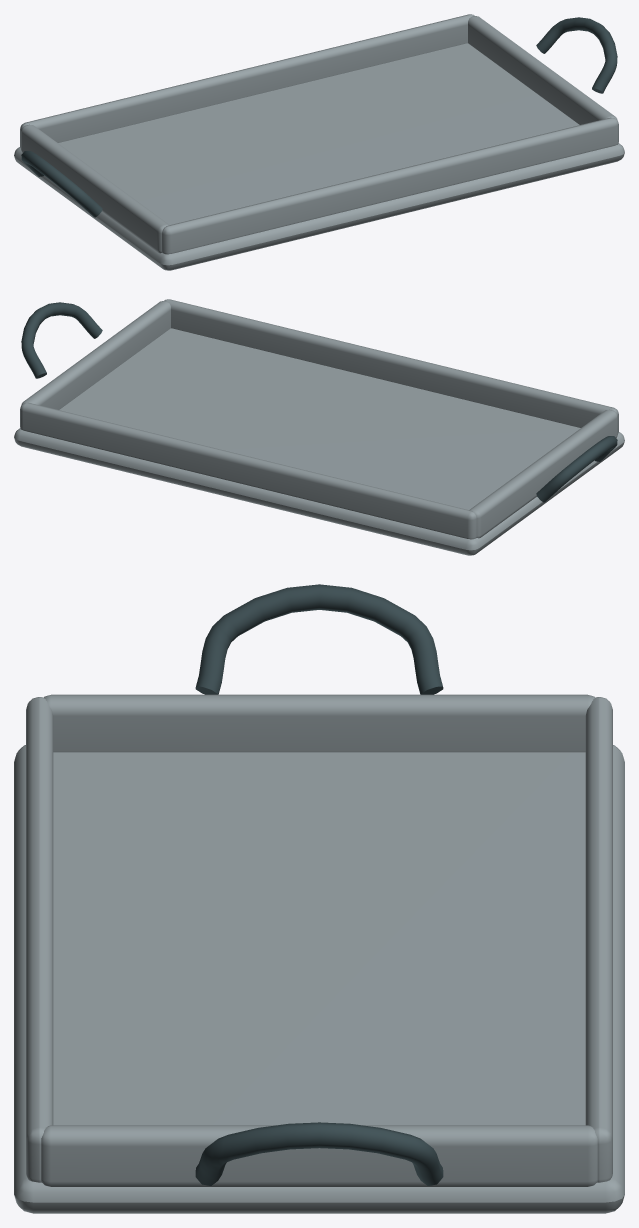
File: HotelTogether-ServingTray.glb
3 views of the same model, one above another, from view 1: azimuth 30°, elevation 25°; view 2: azimuth 150°, elevation 25°; view 3: azimuth 270°, elevation 25° (orthographic). The views are drawn at different scales.
Visible parts, largest first — view 1: Tray_Base, Tray_Edge, Tray_Edge.001, Tray_Side, Tray_Side.001, Tray_Handle.001, Tray_Handle; view 2: Tray_Base, Tray_Edge.001, Tray_Edge, Tray_Side, Tray_Side.001, Tray_Handle.001, Tray_Handle; view 3: Tray_Base, Tray_Side, Tray_Side.001, Tray_Edge, Tray_Edge.001, Tray_Handle, Tray_Handle.001.
Boxes of the visible parts, x1,y1,x2,y2 form: Tray_Base: (14, 43, 624, 270); Tray_Edge: (162, 117, 618, 254); Tray_Edge.001: (20, 14, 474, 148); Tray_Side: (21, 124, 169, 253); Tray_Side.001: (468, 16, 617, 124); Tray_Handle.001: (536, 17, 617, 93); Tray_Handle: (21, 151, 102, 217); Tray_Base: (14, 328, 624, 555); Tray_Edge.001: (20, 402, 476, 539); Tray_Edge: (164, 299, 618, 433); Tray_Side: (469, 409, 617, 538); Tray_Side.001: (21, 301, 170, 409); Tray_Handle.001: (21, 302, 102, 378); Tray_Handle: (536, 436, 617, 502); Tray_Base: (14, 745, 624, 1213); Tray_Side: (44, 694, 594, 752); Tray_Side.001: (41, 1125, 597, 1186); Tray_Edge: (26, 697, 53, 1182); Tray_Edge.001: (585, 697, 612, 1182); Tray_Handle: (195, 584, 443, 694); Tray_Handle.001: (195, 1122, 443, 1185).
Size of the model in its own units: 0.8073 by 0.0966 by 0.38.
